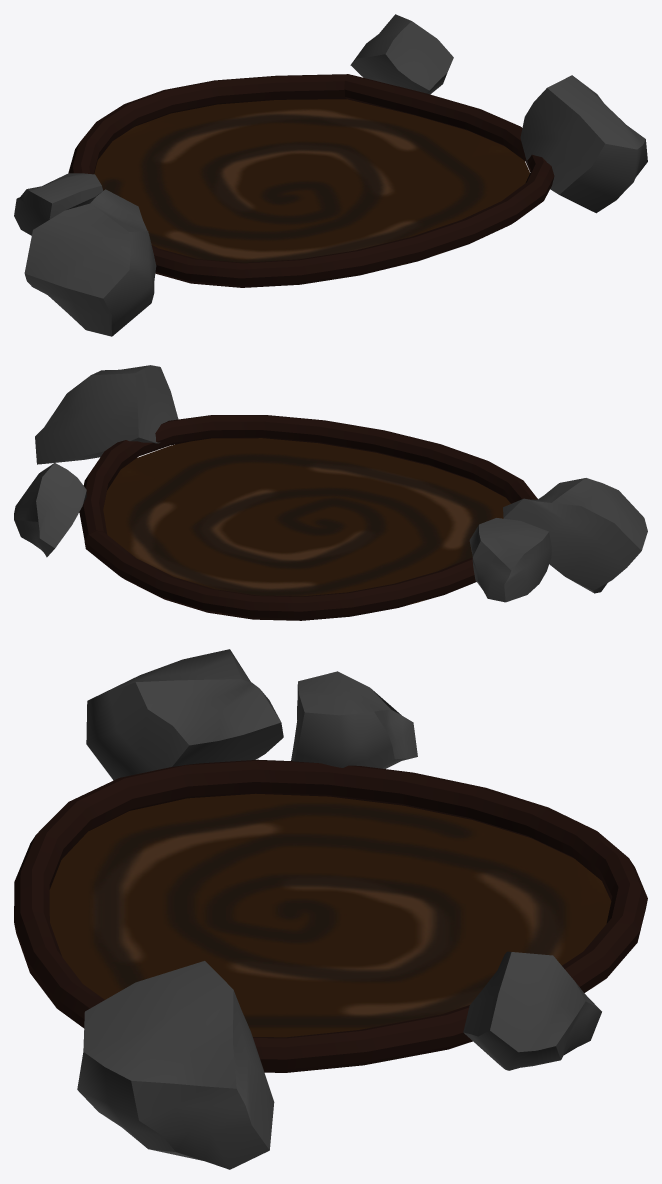
Rendered from rabbit_hole.fbx.
The picture shows the model from 3 angles, top to bottom: view 1: azimuth 30°, elevation 25°; view 2: azimuth 150°, elevation 25°; view 3: azimuth 270°, elevation 25°; orthographic projection. The views are drawn at different scales.
Visible parts, largest first — view 1: pPlane1, pCylinder1, pCube2, pCube4, pCube3, pCube1; view 2: pPlane1, pCylinder1, pCube2, pCube4, pCube1, pCube3; view 3: pPlane1, pCylinder1, pCube4, pCube2, pCube3, pCube1.
Boxes of the visible parts, left/top/right/bottom form: pPlane1: left=94, top=99, right=529, bottom=265; pCylinder1: left=68, top=74, right=554, bottom=287; pCube2: left=24, top=189, right=156, bottom=336; pCube4: left=520, top=75, right=647, bottom=213; pCube3: left=350, top=14, right=453, bottom=94; pCube1: left=14, top=173, right=103, bottom=235; pPlane1: left=103, top=438, right=510, bottom=614; pCylinder1: left=79, top=415, right=537, bottom=620; pCube2: left=503, top=478, right=647, bottom=593; pCube4: left=35, top=365, right=178, bottom=464; pCube1: left=469, top=518, right=551, bottom=602; pCube3: left=14, top=463, right=86, bottom=557; pPlane1: left=49, top=793, right=611, bottom=1037; pCylinder1: left=14, top=759, right=647, bottom=1072; pCube4: left=77, top=961, right=274, bottom=1169; pCube2: left=86, top=649, right=283, bottom=780; pCube3: left=463, top=951, right=601, bottom=1070; pCube1: left=291, top=671, right=417, bottom=768.
Size of the model in its own units: 6.3 by 1.18 by 4.02.
3 materials, 1 textured.
